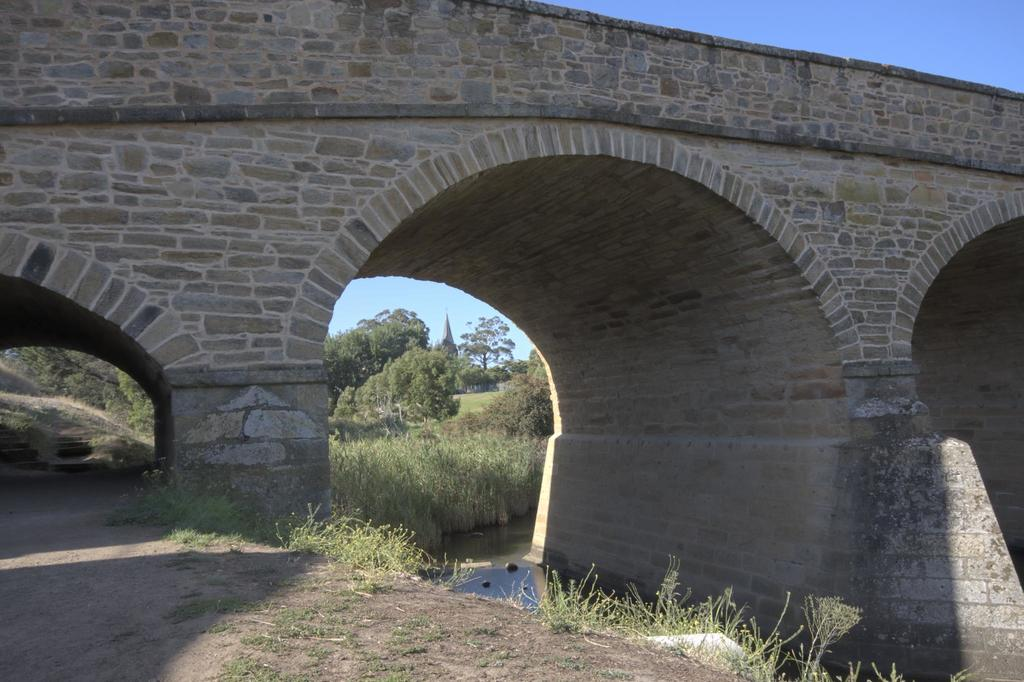Tree: (0, 308, 553, 540)
